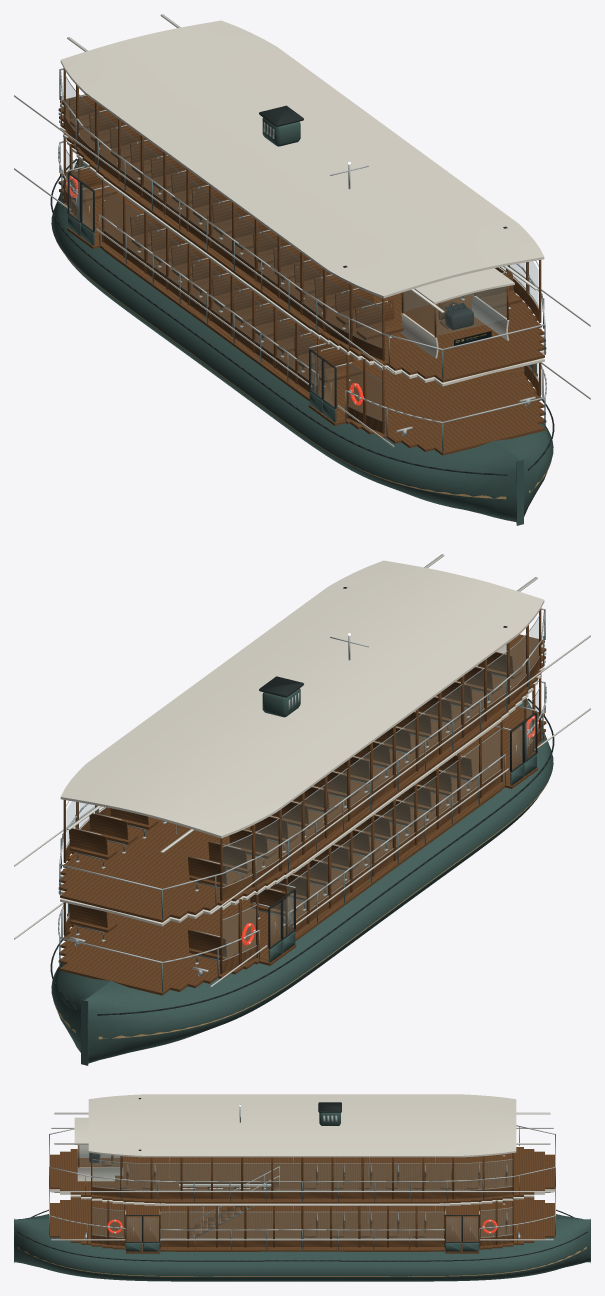
The model's file is lacuna-f26-lod0.glb.
3 views of the same model, one above another, from view 1: azimuth 30°, elevation 25°; view 2: azimuth 150°, elevation 25°; view 3: azimuth 270°, elevation 25° (orthographic). The views are drawn at different scales.
Visible parts, largest first — view 1: LOD0-ferry-detail-0-pearl-batch, LOD0-ferry-detail-0-floor-batch, LOD0-ferry-detail-0-wood-batch, LOD0-ferry-detail-0-paint-batch, LOD0-ferry-detail-0-glass-batch, LOD0-ferry-detail-0-metal-batch, LOD0-ferry-detail-0-interior-batch, LOD0-ferry-detail-0-dark-batch, LOD0-ferry-detail-0-steel-batch, LOD0-ferry-detail-0-livery-batch; view 2: LOD0-ferry-detail-0-pearl-batch, LOD0-ferry-detail-0-floor-batch, LOD0-ferry-detail-0-wood-batch, LOD0-ferry-detail-0-paint-batch, LOD0-ferry-detail-0-glass-batch, LOD0-ferry-detail-0-metal-batch, LOD0-ferry-detail-0-steel-batch, LOD0-ferry-detail-0-interior-batch, LOD0-ferry-detail-0-dark-batch, LOD0-ferry-detail-0-livery-batch; view 3: LOD0-ferry-detail-0-floor-batch, LOD0-ferry-detail-0-pearl-batch, LOD0-ferry-detail-0-paint-batch, LOD0-ferry-detail-0-glass-batch, LOD0-ferry-detail-0-wood-batch, LOD0-ferry-detail-0-metal-batch, LOD0-ferry-detail-0-interior-batch, LOD0-ferry-detail-0-dark-batch, LOD0-ferry-detail-0-steel-batch, LOD0-ferry-detail-0-livery-batch, LOD0-ferry-door-0-starboard-leaf-1-glass-batch, LOD0-ferry-door-1-starboard-leaf--1-glass-batch (+2 smaller).
Boxes of the visible parts, left/top/right/bottom form: LOD0-ferry-detail-0-pearl-batch: left=58, top=20, right=546, bottom=404; LOD0-ferry-detail-0-floor-batch: left=58, top=94, right=546, bottom=455; LOD0-ferry-detail-0-wood-batch: left=63, top=68, right=541, bottom=434; LOD0-ferry-detail-0-paint-batch: left=51, top=117, right=553, bottom=525; LOD0-ferry-detail-0-glass-batch: left=66, top=76, right=538, bottom=418; LOD0-ferry-detail-0-metal-batch: left=58, top=68, right=546, bottom=436; LOD0-ferry-detail-0-interior-batch: left=14, top=14, right=590, bottom=447; LOD0-ferry-detail-0-dark-batch: left=50, top=105, right=554, bottom=475; LOD0-ferry-detail-0-steel-batch: left=59, top=72, right=545, bottom=452; LOD0-ferry-detail-0-livery-batch: left=55, top=106, right=551, bottom=499; LOD0-ferry-detail-0-pearl-batch: left=58, top=560, right=546, bottom=944; LOD0-ferry-detail-0-floor-batch: left=58, top=634, right=546, bottom=995; LOD0-ferry-detail-0-wood-batch: left=63, top=608, right=541, bottom=974; LOD0-ferry-detail-0-paint-batch: left=51, top=688, right=553, bottom=1065; LOD0-ferry-detail-0-glass-batch: left=66, top=616, right=538, bottom=958; LOD0-ferry-detail-0-metal-batch: left=58, top=608, right=546, bottom=976; LOD0-ferry-detail-0-steel-batch: left=59, top=612, right=545, bottom=992; LOD0-ferry-detail-0-interior-batch: left=14, top=554, right=590, bottom=987; LOD0-ferry-detail-0-dark-batch: left=50, top=587, right=554, bottom=1015; LOD0-ferry-detail-0-livery-batch: left=53, top=778, right=549, bottom=1039; LOD0-ferry-detail-0-floor-batch: left=49, top=1147, right=555, bottom=1253; LOD0-ferry-detail-0-pearl-batch: left=49, top=1094, right=555, bottom=1233; LOD0-ferry-detail-0-paint-batch: left=14, top=1112, right=590, bottom=1281; LOD0-ferry-detail-0-glass-batch: left=78, top=1145, right=512, bottom=1238; LOD0-ferry-detail-0-wood-batch: left=78, top=1145, right=513, bottom=1247; LOD0-ferry-detail-0-metal-batch: left=49, top=1104, right=555, bottom=1239; LOD0-ferry-detail-0-interior-batch: left=51, top=1112, right=553, bottom=1240; LOD0-ferry-detail-0-dark-batch: left=17, top=1098, right=587, bottom=1261; LOD0-ferry-detail-0-steel-batch: left=49, top=1127, right=555, bottom=1249; LOD0-ferry-detail-0-livery-batch: left=18, top=1165, right=586, bottom=1276; LOD0-ferry-door-0-starboard-leaf-1-glass-batch: left=446, top=1217, right=460, bottom=1241; LOD0-ferry-door-1-starboard-leaf--1-glass-batch: left=144, top=1217, right=158, bottom=1241.
Size of the model in its own units: 7 by 7.97 by 26.
15 materials, 4 textured.
